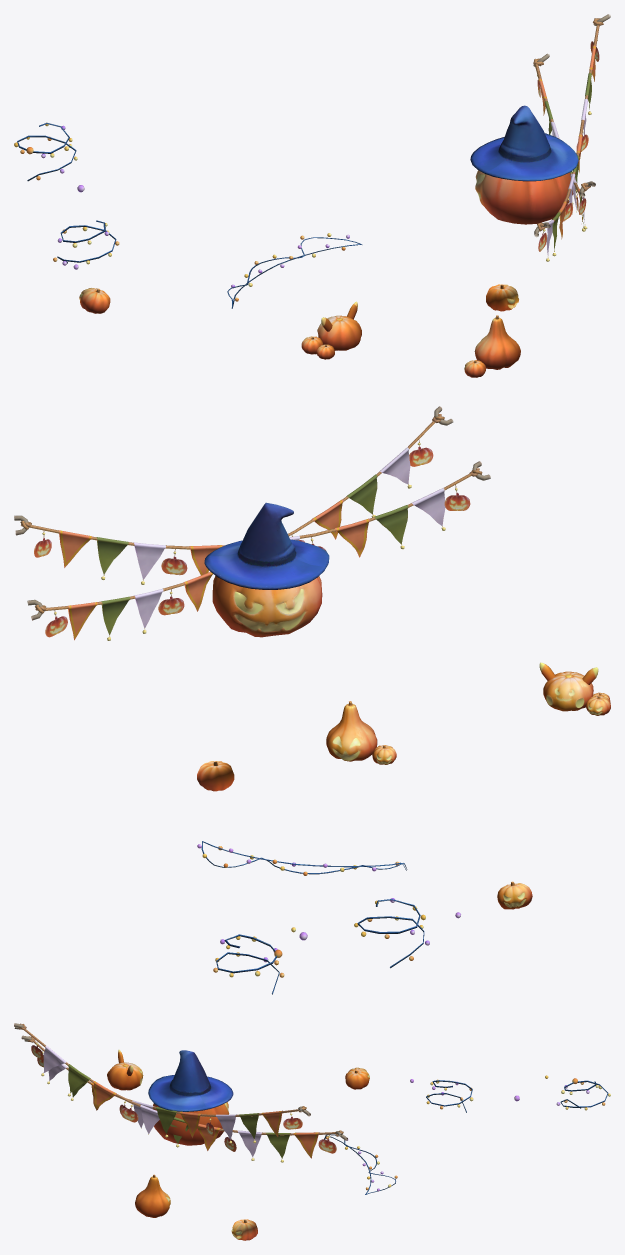
Rendered from pref_sm_4v4beachtech_WSJ_bk_decorate_L02_lv2.fbx.
3 renders of one model, top to bottom at view 1: azimuth 30°, elevation 25°; view 2: azimuth 150°, elevation 25°; view 3: azimuth 270°, elevation 25°, orthographic. The views are drawn at different scales.
Visible parts, largest first — view 1: sm_4v4beachtech_WSJ_bk_decorate_L02_b_lv2, sm_4v4beachtech_WSJ_bk_decorate_L02_a_lv2; view 2: sm_4v4beachtech_WSJ_bk_decorate_L02_b_lv2, sm_4v4beachtech_WSJ_bk_decorate_L02_a_lv2; view 3: sm_4v4beachtech_WSJ_bk_decorate_L02_a_lv2, sm_4v4beachtech_WSJ_bk_decorate_L02_b_lv2.
Boxes of the visible parts, x1=… form: sm_4v4beachtech_WSJ_bk_decorate_L02_b_lv2: x1=79, y1=105, x2=578, y2=377; sm_4v4beachtech_WSJ_bk_decorate_L02_a_lv2: x1=14, y1=14, x2=610, y2=308; sm_4v4beachtech_WSJ_bk_decorate_L02_b_lv2: x1=197, y1=502, x2=610, y2=909; sm_4v4beachtech_WSJ_bk_decorate_L02_a_lv2: x1=14, y1=406, x2=490, y2=994; sm_4v4beachtech_WSJ_bk_decorate_L02_a_lv2: x1=14, y1=1023, x2=610, y2=1194; sm_4v4beachtech_WSJ_bk_decorate_L02_b_lv2: x1=107, y1=1049, x2=369, y2=1240.
Bounding box in the file's own units: 22.95 × 10.91 × 30.34.
